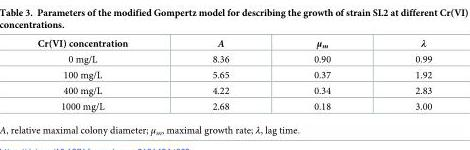table: (36, 36, 431, 111)
table column: (36, 36, 169, 111), (270, 36, 372, 111), (169, 36, 270, 111), (372, 36, 431, 111)
table column header: (36, 36, 431, 51)
table row: (36, 66, 431, 82), (36, 82, 431, 98), (36, 36, 431, 51), (36, 51, 431, 66), (36, 98, 431, 111)
